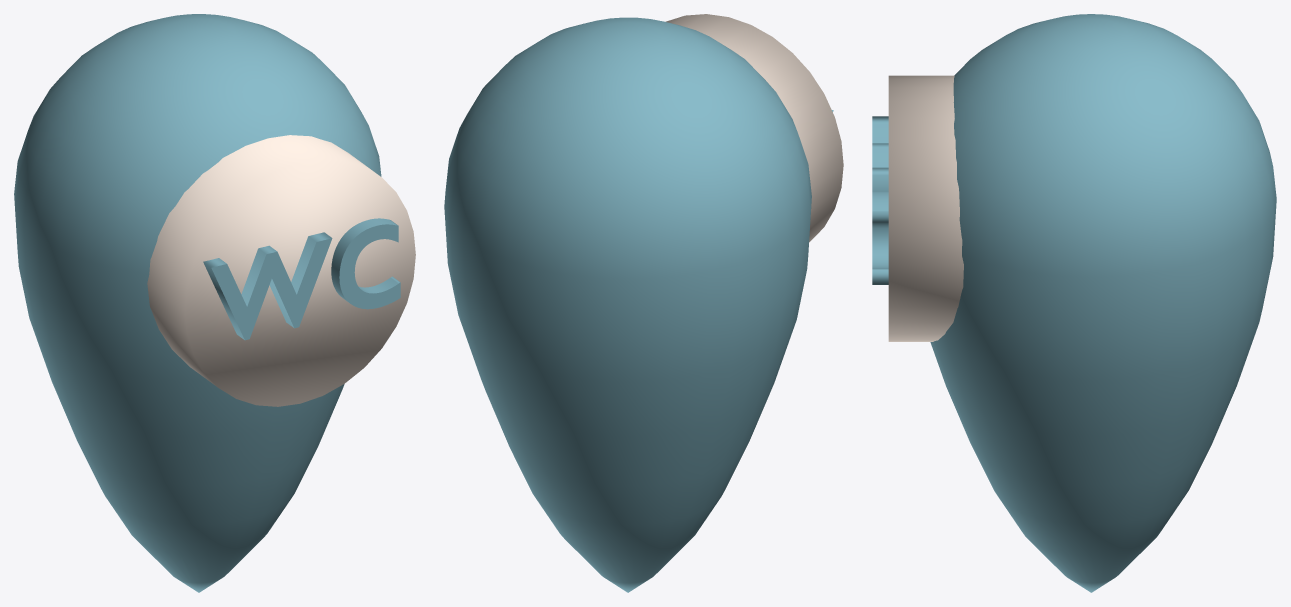
Rendered from wcPin.glb.
3 views of the same model, side by side, from view 1: azimuth 30°, elevation 25°; view 2: azimuth 150°, elevation 25°; view 3: azimuth 270°, elevation 25° (orthographic).
Visible parts, largest first — view 1: pin.003, Cylinder.057, Text.003; view 2: pin.003, Cylinder.057; view 3: pin.003, Cylinder.057, Text.003.
Part boxes in pixels (x1,y1,x2,y2): pin.003: (14,14,381,592); Cylinder.057: (147,135,415,406); Text.003: (203,218,400,340); pin.003: (444,17,811,592); Cylinder.057: (665,14,843,242); pin.003: (930,14,1276,592); Cylinder.057: (888,75,963,341); Text.003: (872,116,888,284).
Bounding box in the file's own units: 0.2435 × 0.4072 × 0.2657.
